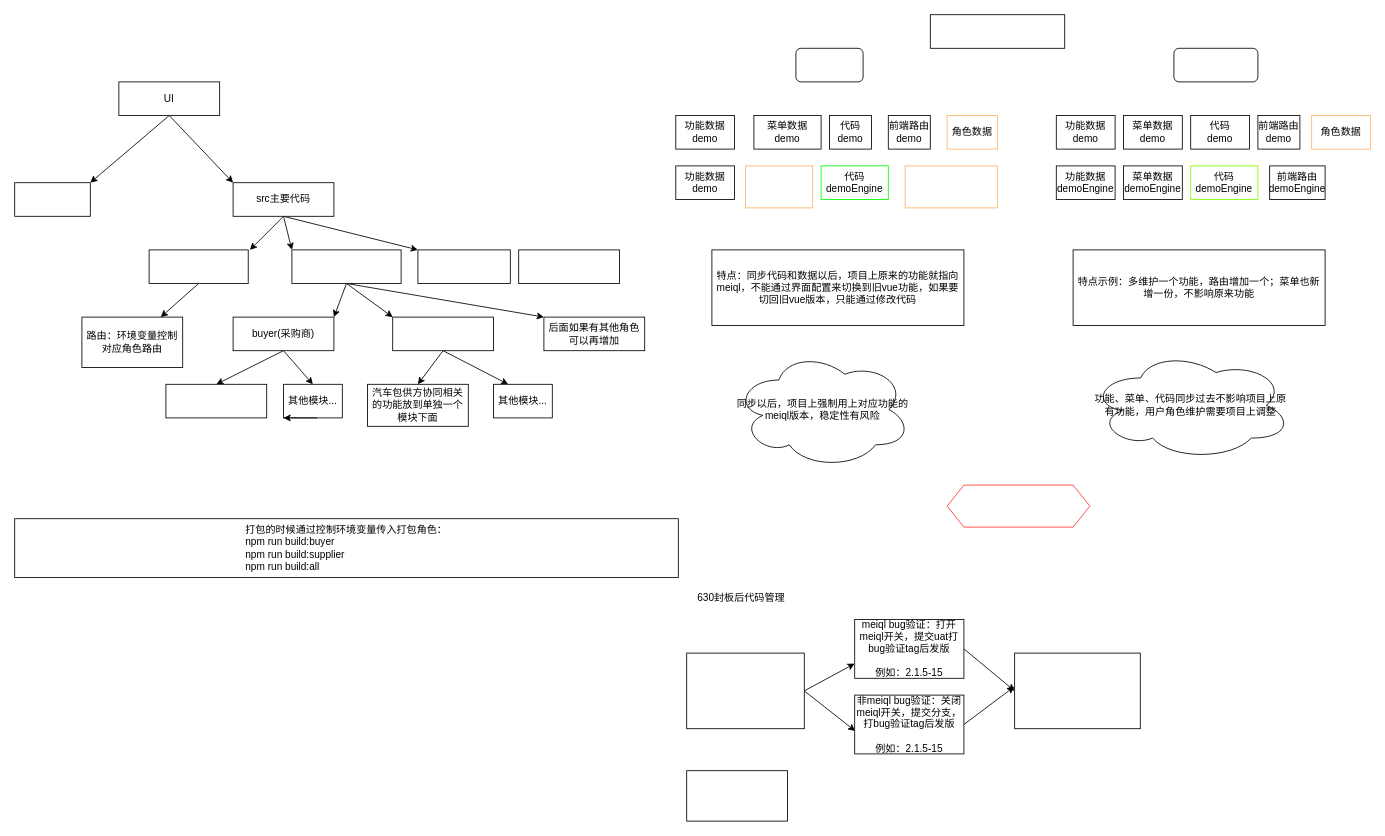
Image size: 1385x836. Some labels were removed from this diagram. Each missing label, with the centre of its shape:
meiql改造同步到项目方案，以功能demo为例子: the point at 997,31
modulesCar汽车包: the point at 463,266
modulesCus项目二开: the point at 569,266
modules业务功能代码: the point at 346,266
sit环境默认meiql开启: the point at 737,795
supplier(供应商): the point at 443,333
uat环境封板以后，uat分支的meiql开关默认关闭，uat的bug迭代会有meiql和非meiql的场景: the point at 745,690
公共资源: the point at 52,199
公共资源：组件、方法、模板: the point at 198,266
前端路由 demo（path不变，修改文件指向）: the point at 951,186
周版本封板：先确认meiql关闭再打封板tag 周版本tag示例：2.1.5.5: the point at 1077,690
当前用现状是方案1: the point at 1018,505
方案1: the point at 829,64
方案2: the point at 1215,64
汽车包相关的功能放到单独一个模块下面: the point at 216,400
菜单数据 demo增加接口/按钮权限: the point at 779,186
